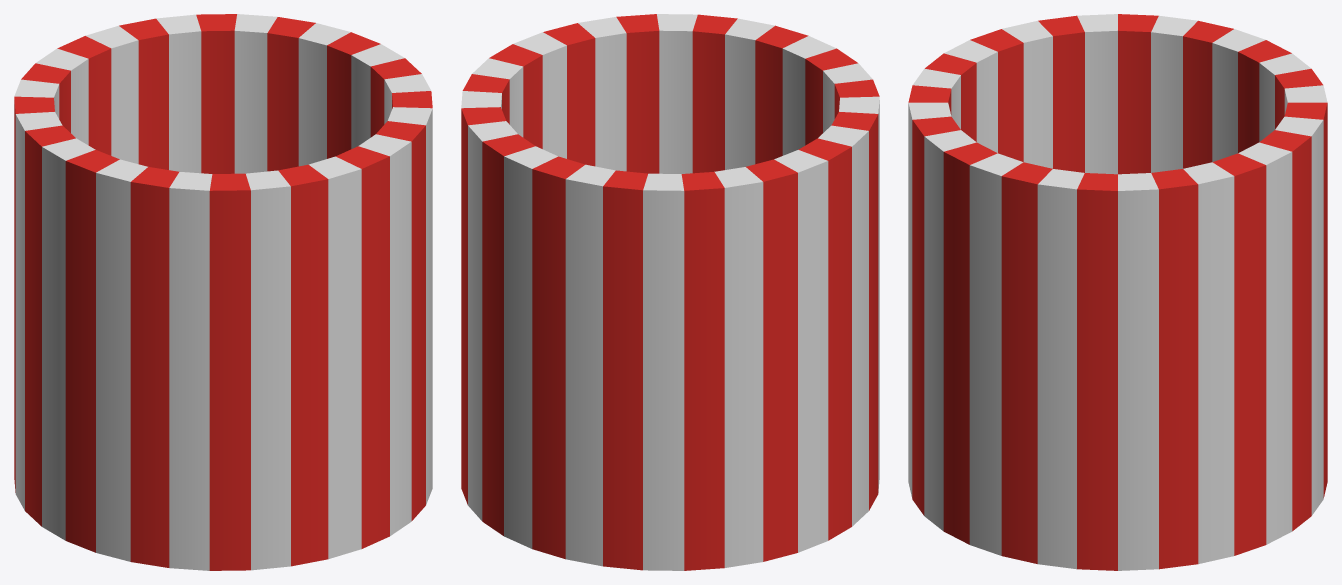
Rendered from Hoyo.fbx.
The picture shows the model from 3 angles, left to right: view 1: azimuth 30°, elevation 25°; view 2: azimuth 150°, elevation 25°; view 3: azimuth 270°, elevation 25°; orthographic projection.
Visible parts, largest first — view 1: Hoyo; view 2: Hoyo; view 3: Hoyo.
Part boxes in pixels (x1=…): Hoyo: x1=14, y1=14, x2=432, y2=570; Hoyo: x1=461, y1=14, x2=879, y2=570; Hoyo: x1=908, y1=14, x2=1327, y2=570.
Bounding box in the file's own units: 18.86 × 18.86 × 18.86.
